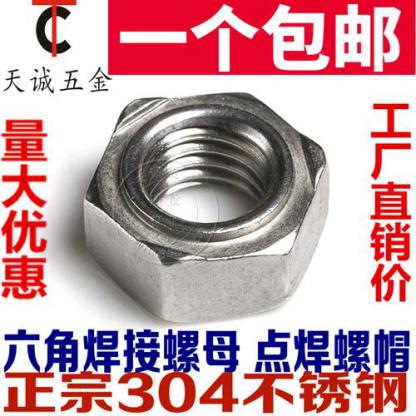FOD: (77, 88, 328, 324)
